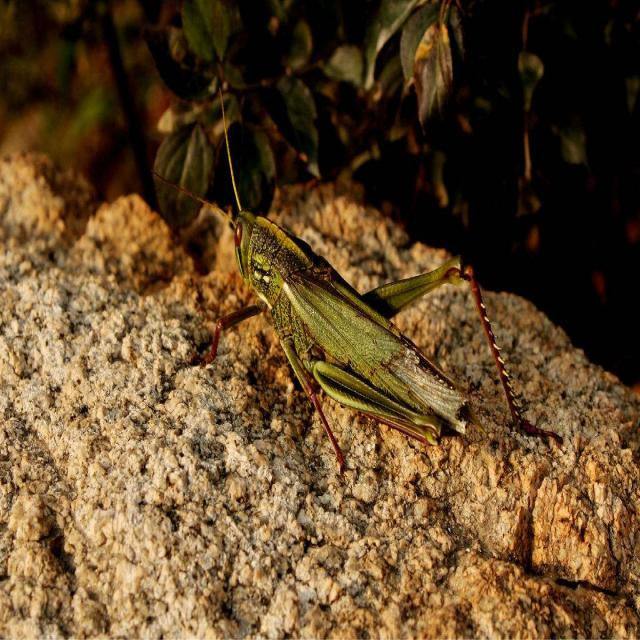ZhaMeng: (219, 186, 560, 476)
